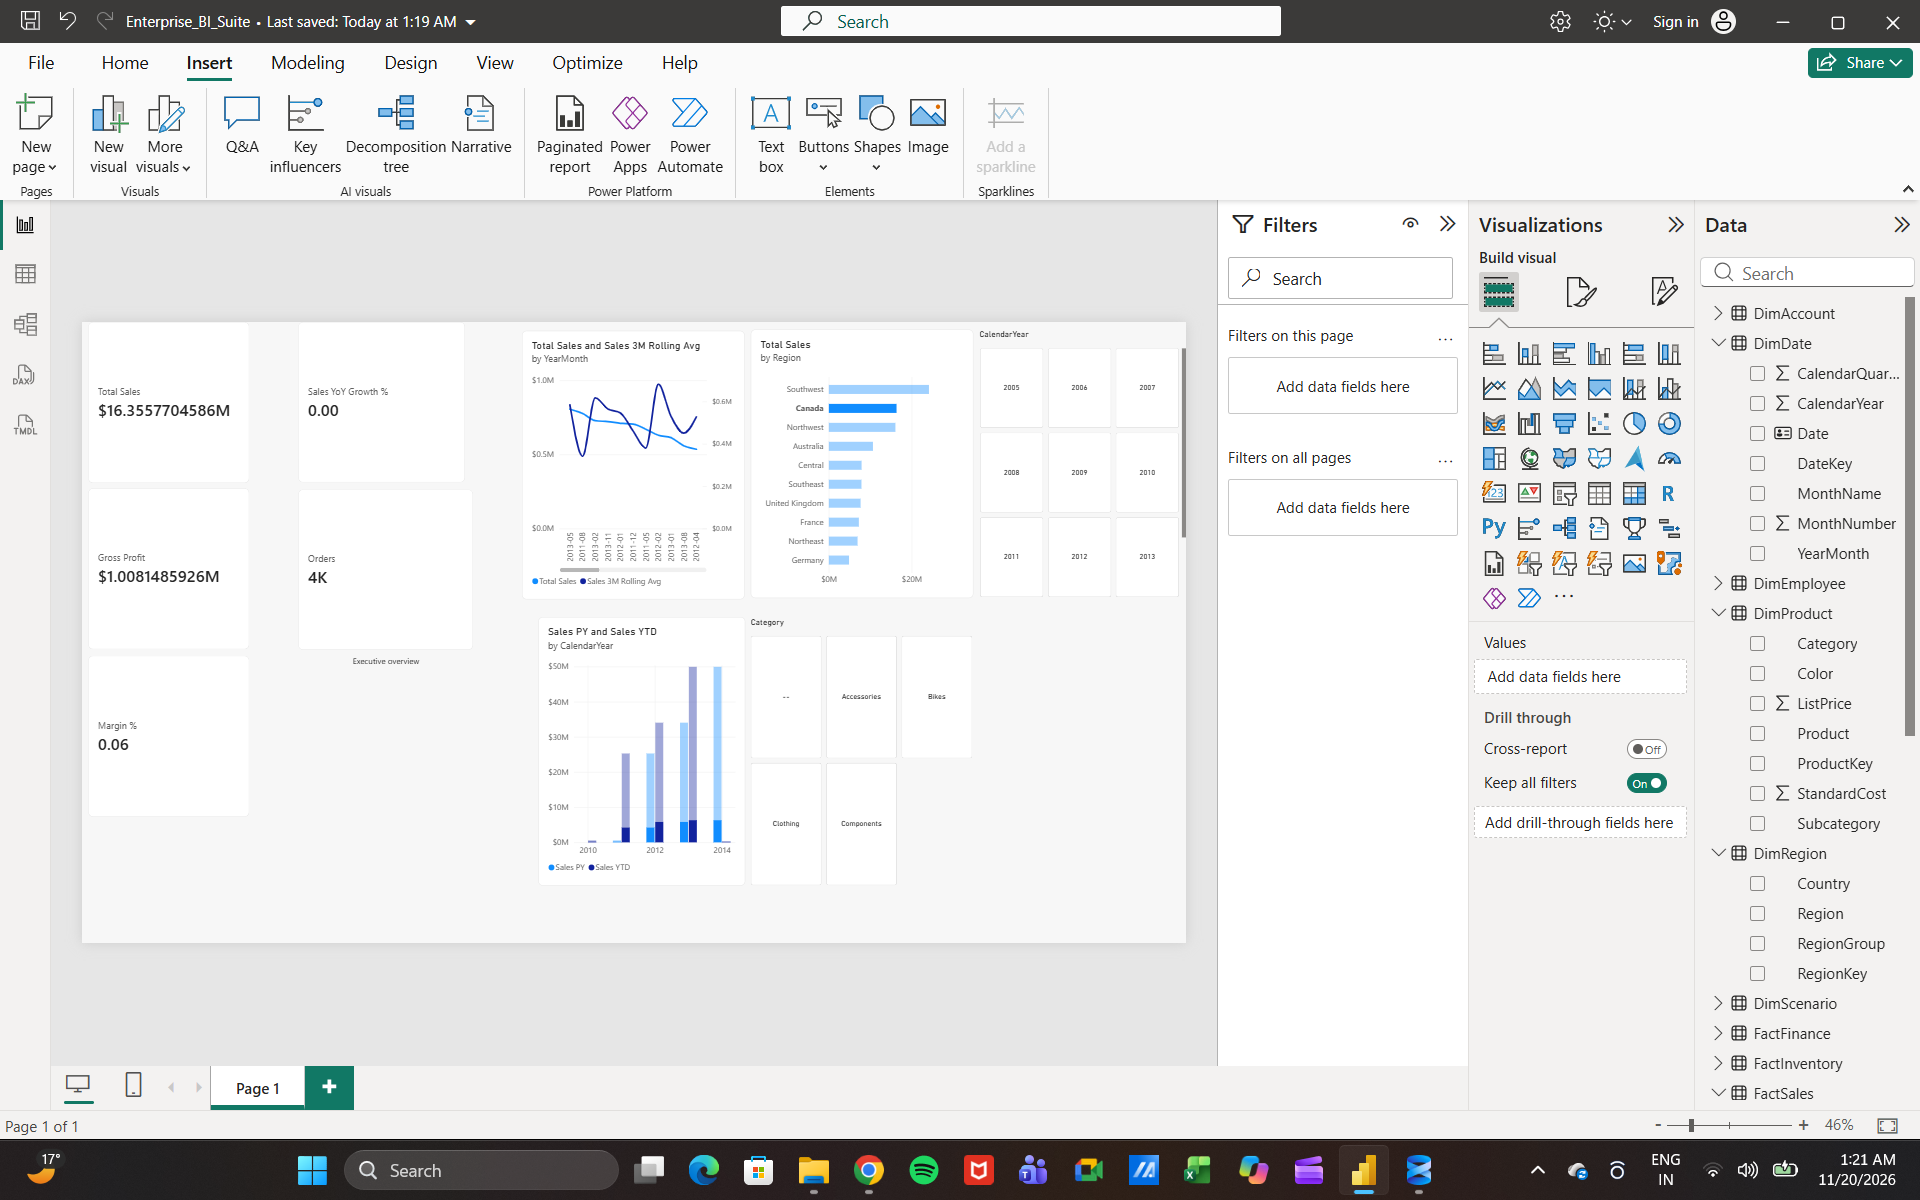

Layout of this report page (visuals, bound fields, positions):
{"tool":"powerbi","page":{"name":"Page 1","canvas":[1920,1080],"ordinal":0},"visuals":[{"type":"cardVisual","fields":{"Data":["FactSales.Total Sales"]},"box":[10,0,280,280],"z":0},{"type":"cardVisual","fields":{"Data":["FactSales.Gross Profit"]},"box":[10,290,280,280],"z":1000},{"type":"cardVisual","fields":{"Data":["FactSales.Margin %"]},"box":[10,580,280,280],"z":2000},{"type":"cardVisual","fields":{"Data":["FactSales.Sales YoY Growth %"]},"box":[376.7,0,290.2,279.9],"z":3000},{"type":"cardVisual","fields":{"Data":["FactSales.Orders"]},"box":[376.7,290.2,304.6,279.9],"z":4000},{"type":"lineChart","fields":{"Category":["DimDate.YearMonth"],"Y":["FactSales.Total Sales"],"Y2":["FactSales.Sales 3M Rolling Avg"]},"box":[765.7,14.4,387,467.2],"z":5000},{"type":"clusteredBarChart","fields":{"Category":["DimRegion.Region"],"Y":["FactSales.Total Sales"]},"box":[1163,14,387,467],"z":6000},{"type":"clusteredColumnChart","fields":{"Category":["DimDate.CalendarYear"],"Y":["FactSales.Sales PY","FactSales.Sales YTD"]},"box":[792.5,512.5,360,467],"z":7000},{"type":"advancedSlicerVisual","fields":{"Values":["DimDate.CalendarYear"]},"box":[1560,14,360,467],"z":8000},{"type":"advancedSlicerVisual","fields":{"Values":["DimProduct.Category"]},"box":[1163,513,387,467],"z":9000},{"type":"textbox","box":[1560,513,360,467],"z":10000},{"type":"textbox","box":[10,860,280,150],"z":11000},{"type":"textbox","box":[377,580,305,280],"z":11001}]}

Visuals, with their boxes on the page's 1920x1080 design canvas (x1, y1, x2, y2). These are canvas units, not pixel positions in the 1920x1200 screenshot, which may show the page scaled, cropped or inside an application window:
cardVisual - FactSales.Total Sales: left=10, top=0, right=290, bottom=280
cardVisual - FactSales.Gross Profit: left=10, top=290, right=290, bottom=570
cardVisual - FactSales.Margin %: left=10, top=580, right=290, bottom=860
cardVisual - FactSales.Sales YoY Growth %: left=377, top=0, right=667, bottom=280
cardVisual - FactSales.Orders: left=377, top=290, right=681, bottom=570
lineChart - DimDate.YearMonth x FactSales.Total Sales: left=766, top=14, right=1153, bottom=482
clusteredBarChart - DimRegion.Region x FactSales.Total Sales: left=1163, top=14, right=1550, bottom=481
clusteredColumnChart - DimDate.CalendarYear x FactSales.Sales PY: left=792, top=512, right=1152, bottom=980
advancedSlicerVisual - DimDate.CalendarYear: left=1560, top=14, right=1920, bottom=481
advancedSlicerVisual - DimProduct.Category: left=1163, top=513, right=1550, bottom=980
textbox: left=1560, top=513, right=1920, bottom=980
textbox: left=10, top=860, right=290, bottom=1010
textbox: left=377, top=580, right=682, bottom=860
